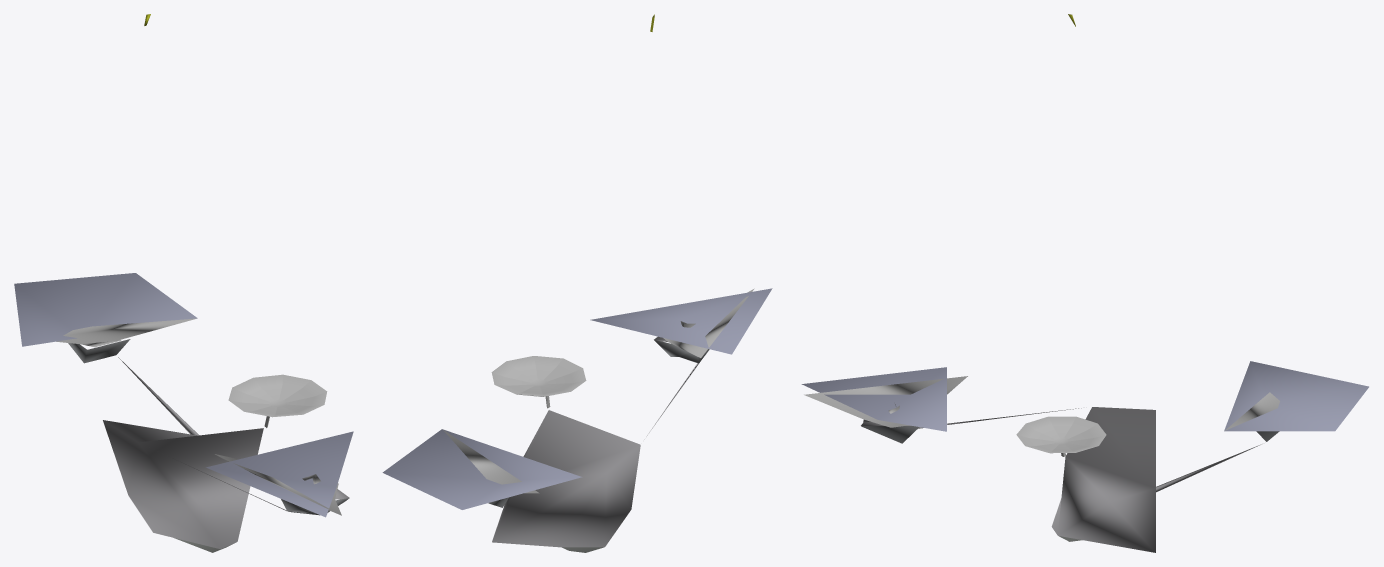
The model's file is tracking-and-data-relay-satellites-tdrs-a.glb.
3 views of the same model, side by side, from view 1: azimuth 30°, elevation 25°; view 2: azimuth 150°, elevation 25°; view 3: azimuth 270°, elevation 25° (orthographic). The views are drawn at different scales.
Parts seen in each view (by area): view 1: polySurface5, transform8; view 2: polySurface5, transform8; view 3: polySurface5, transform8.
Part boxes in pixels (box(x1,y1,x2,y2)): polySurface5: box(14, 14, 353, 552); transform8: box(56, 318, 341, 515); polySurface5: box(382, 14, 772, 552); transform8: box(443, 288, 754, 493); polySurface5: box(801, 14, 1368, 552); transform8: box(804, 376, 1279, 456).
Size of the model in its own units: 0.1797 by 0.4414 by 0.4594.
Materials: 3 (3 with a texture image).
